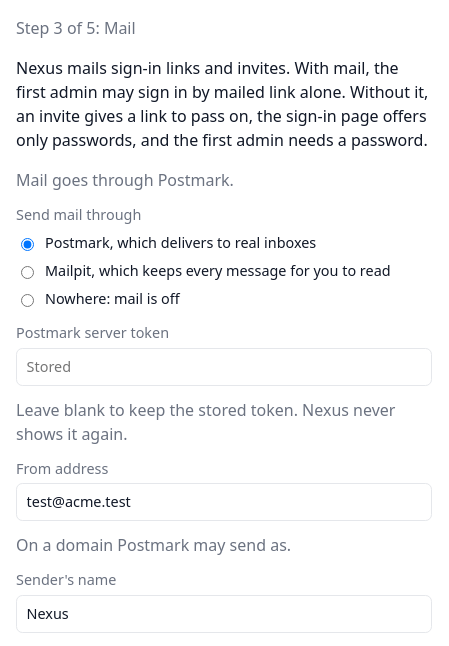
it: turns mail off, then chooses Mailpit again with nothing to retype
The image size is (449, 646).
Expected: the text "Mail goes through Postmark." is shown, [16,169,234,191]
Click the radio button labelled "Nowhere: mail is off": click(28, 301) [21,294,34,307]
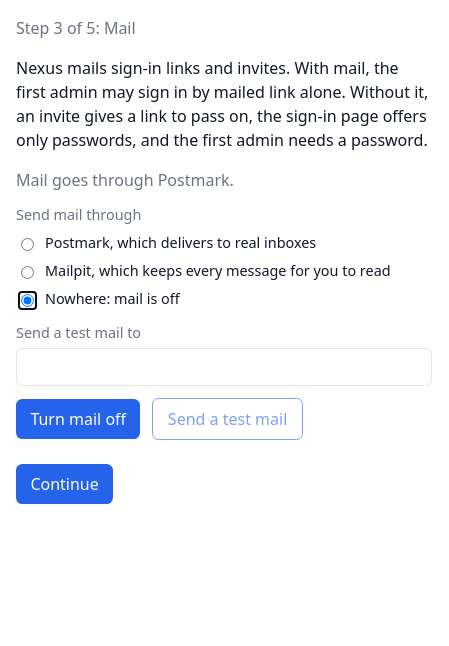
Click the button "Turn mail off": click(78, 419) [16,399,140,439]
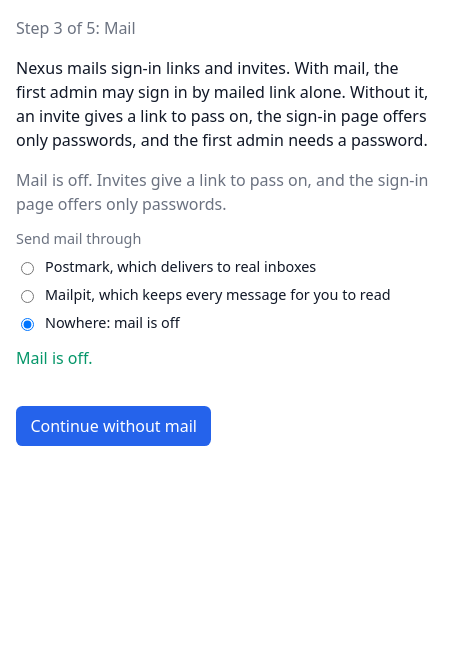
Expected: the text "Mail is off." is shown, [16,347,92,369]
Expected: the button "Continue without mail" is shown, [16,406,211,446]
Click the radio button labelled "Mailpit, which keeps every message for you to read": click(28, 297) [21,290,34,303]
(page scrolled)
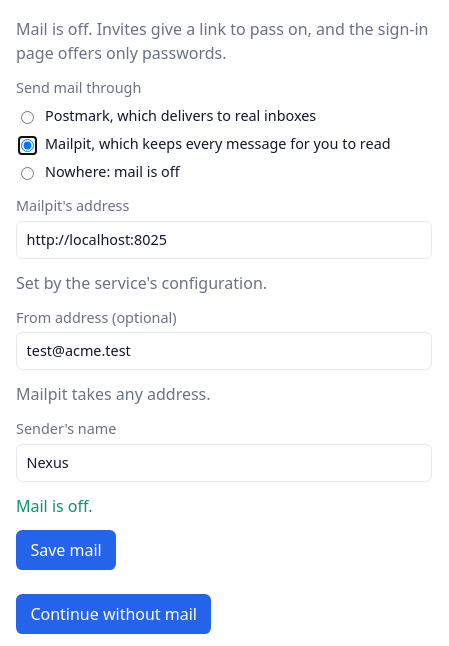
Click the button "Save mail": click(66, 550) [16,530,116,570]
(page scrolled)
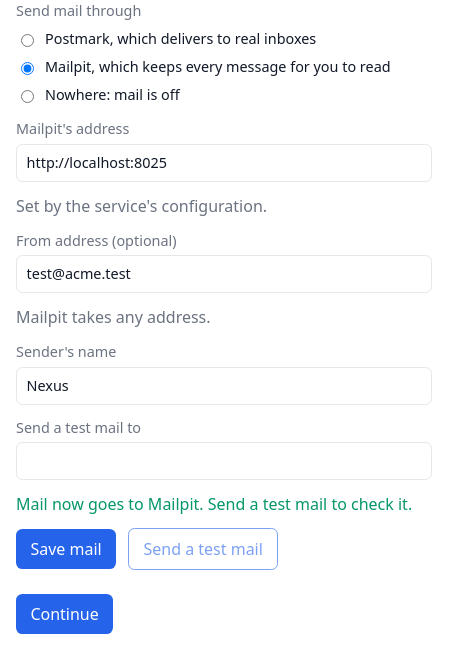
Expected: the button "Continue" is shown, [16,594,113,634]
Expected: the text "Mail now goes to Mailpit. Send a test mail to check it." is shown, [16,492,432,516]
